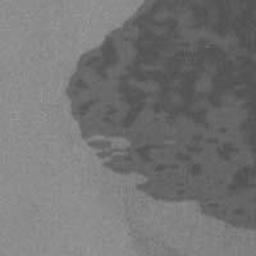Oil spot: (64, 0, 256, 256), (232, 250, 256, 256)
